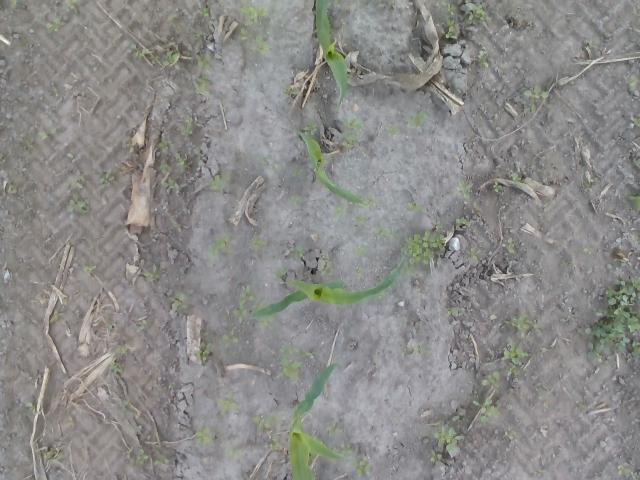Maize: (248, 253, 406, 319), (286, 362, 346, 480), (296, 128, 366, 206), (315, 0, 347, 108)
Weeds: (595, 276, 640, 334), (400, 229, 446, 274), (584, 317, 618, 364), (275, 346, 303, 382), (504, 313, 542, 338), (432, 425, 463, 452), (471, 396, 501, 423), (524, 85, 550, 114), (500, 341, 529, 366), (615, 334, 640, 361), (342, 114, 363, 146), (462, 0, 492, 22), (252, 411, 280, 433), (240, 5, 268, 26), (208, 236, 232, 260), (216, 391, 238, 415), (406, 110, 428, 132), (68, 192, 90, 214), (250, 35, 274, 55), (351, 456, 373, 477), (176, 114, 198, 135), (372, 224, 400, 240), (174, 152, 193, 174), (192, 74, 211, 96), (208, 172, 231, 190), (163, 46, 180, 70), (70, 170, 91, 189), (618, 462, 640, 480), (195, 424, 214, 444), (481, 370, 501, 389), (246, 234, 268, 251), (401, 342, 427, 356), (223, 444, 243, 462), (222, 328, 240, 348), (130, 42, 150, 60), (45, 16, 65, 34), (454, 182, 475, 199), (195, 341, 212, 362), (442, 17, 457, 40), (259, 314, 277, 332), (45, 445, 65, 461), (99, 170, 116, 188), (194, 53, 212, 70), (134, 448, 150, 467), (320, 260, 335, 280), (239, 284, 254, 304), (627, 190, 640, 213), (234, 302, 248, 323), (170, 294, 188, 310), (144, 264, 160, 282), (260, 154, 278, 170), (280, 86, 300, 100), (332, 443, 353, 456), (441, 0, 456, 18), (161, 178, 181, 191), (362, 192, 378, 208), (302, 119, 318, 135), (476, 50, 490, 68), (108, 360, 126, 374), (582, 177, 599, 191), (501, 237, 515, 254), (454, 216, 471, 230), (326, 422, 343, 436), (386, 122, 400, 138), (352, 243, 368, 257), (332, 204, 348, 218), (288, 244, 304, 258), (273, 268, 287, 284), (49, 309, 65, 323), (62, 0, 78, 14), (625, 73, 639, 88), (19, 136, 35, 149), (156, 162, 173, 174), (157, 139, 170, 154), (510, 172, 522, 188), (538, 394, 550, 410), (269, 436, 281, 452), (82, 264, 98, 276), (238, 26, 250, 42), (408, 199, 422, 212), (251, 297, 265, 310), (153, 455, 169, 466), (26, 400, 38, 414), (288, 194, 302, 206), (430, 449, 442, 462), (470, 246, 481, 260), (431, 220, 446, 230), (354, 214, 366, 226), (135, 320, 147, 332), (120, 398, 130, 412), (492, 180, 503, 192), (507, 364, 518, 376), (504, 428, 516, 439), (148, 54, 160, 65), (196, 146, 203, 164), (355, 266, 366, 277), (90, 61, 101, 72), (452, 411, 464, 421), (446, 306, 458, 316), (168, 15, 178, 27), (115, 346, 128, 355), (5, 183, 18, 192), (125, 446, 134, 459), (614, 256, 628, 264), (588, 39, 598, 50), (200, 7, 210, 18), (542, 201, 551, 213), (631, 156, 640, 168), (38, 130, 48, 140), (631, 234, 640, 245), (582, 246, 594, 254), (378, 288, 386, 300), (126, 143, 136, 152), (10, 0, 20, 9), (152, 387, 162, 396), (454, 82, 462, 93), (292, 168, 303, 176), (633, 116, 640, 128), (534, 469, 546, 476), (473, 201, 482, 210), (200, 331, 210, 339), (50, 128, 60, 135), (30, 188, 37, 198), (168, 382, 176, 390), (560, 260, 568, 268), (578, 404, 588, 410), (52, 87, 58, 97), (321, 252, 329, 259), (106, 322, 113, 330), (195, 30, 203, 37), (7, 123, 16, 129), (305, 351, 313, 357), (0, 154, 6, 162), (560, 317, 568, 322), (333, 0, 340, 5)
